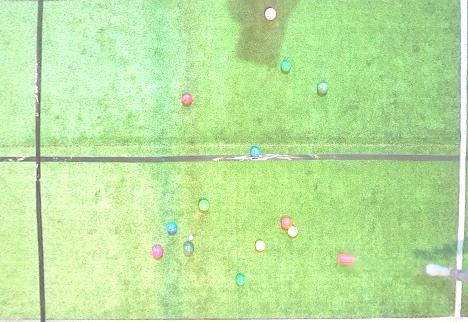blue: (250, 146, 261, 157), (167, 223, 177, 234)
green: (317, 82, 329, 95), (183, 242, 194, 254), (199, 200, 210, 211), (281, 61, 291, 72), (235, 274, 245, 285)
red: (339, 253, 355, 265), (152, 246, 163, 259), (265, 8, 276, 20), (182, 94, 193, 106), (281, 217, 292, 228)
vline: (1, 1, 47, 321), (455, 1, 467, 271), (453, 280, 467, 321)
white: (189, 235, 193, 240)
yellow: (256, 240, 266, 251), (288, 226, 298, 237)
